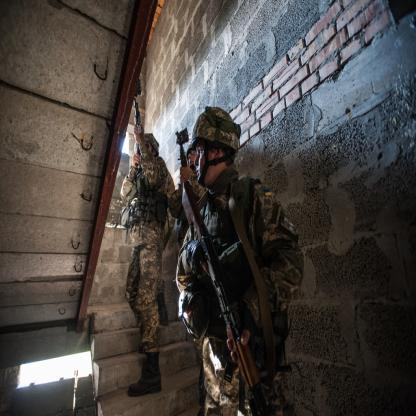Helmet: (184, 110, 244, 197), (133, 132, 158, 156)
